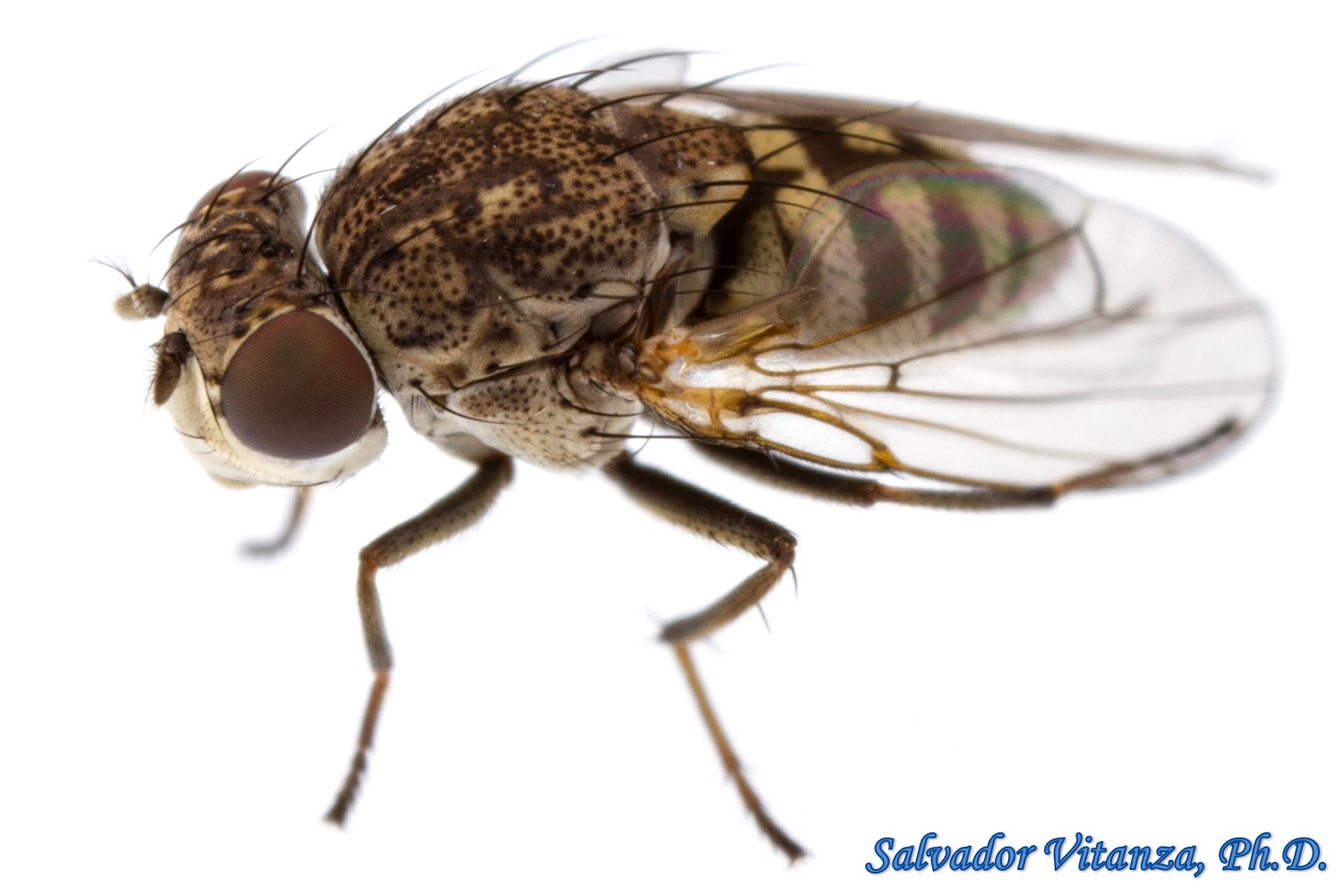Ephydridae: (98, 39, 1335, 860)
